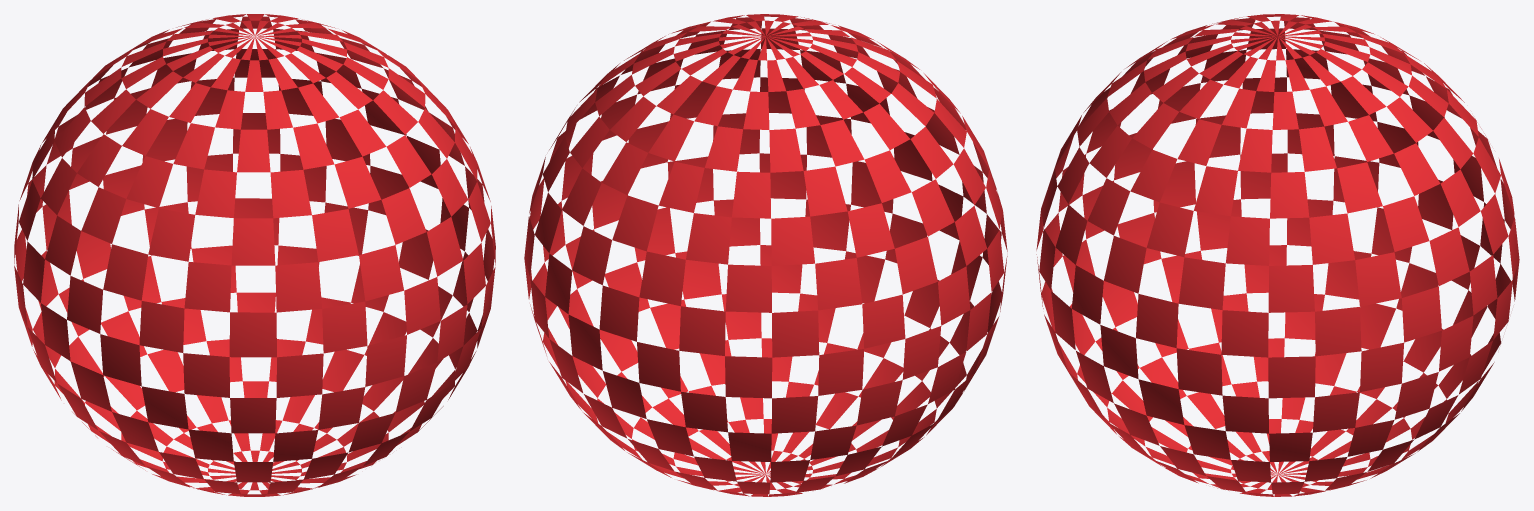
The model's file is redORB_C2.glb.
3 views of the same model, side by side, from view 1: azimuth 30°, elevation 25°; view 2: azimuth 150°, elevation 25°; view 3: azimuth 270°, elevation 25° (orthographic).
Parts seen in each view (by area): view 1: orb1_2; view 2: orb1_2; view 3: orb1_2.
Part boxes in pixels (x1,y1,x2,y2): orb1_2: (14, 14, 495, 496); orb1_2: (524, 14, 1007, 496); orb1_2: (1036, 14, 1519, 496).
Bounding box in the file's own units: 2.59 × 2.59 × 2.59.
